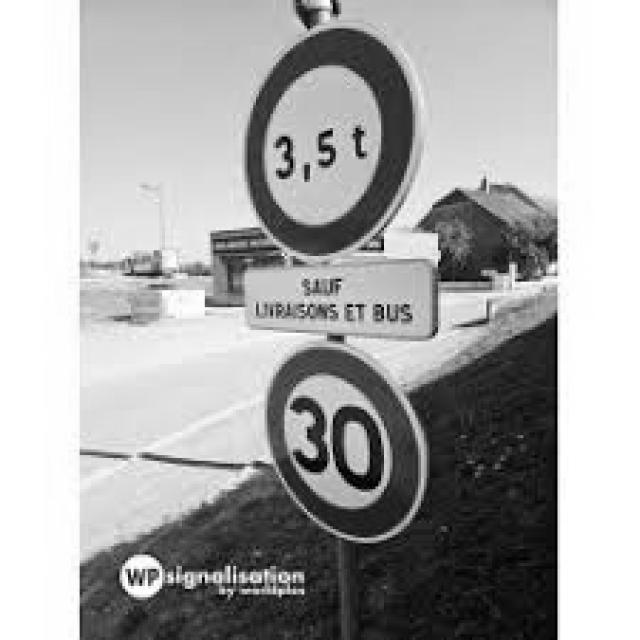forbidden: (244, 26, 426, 259)
speed_30: (263, 339, 428, 542)
